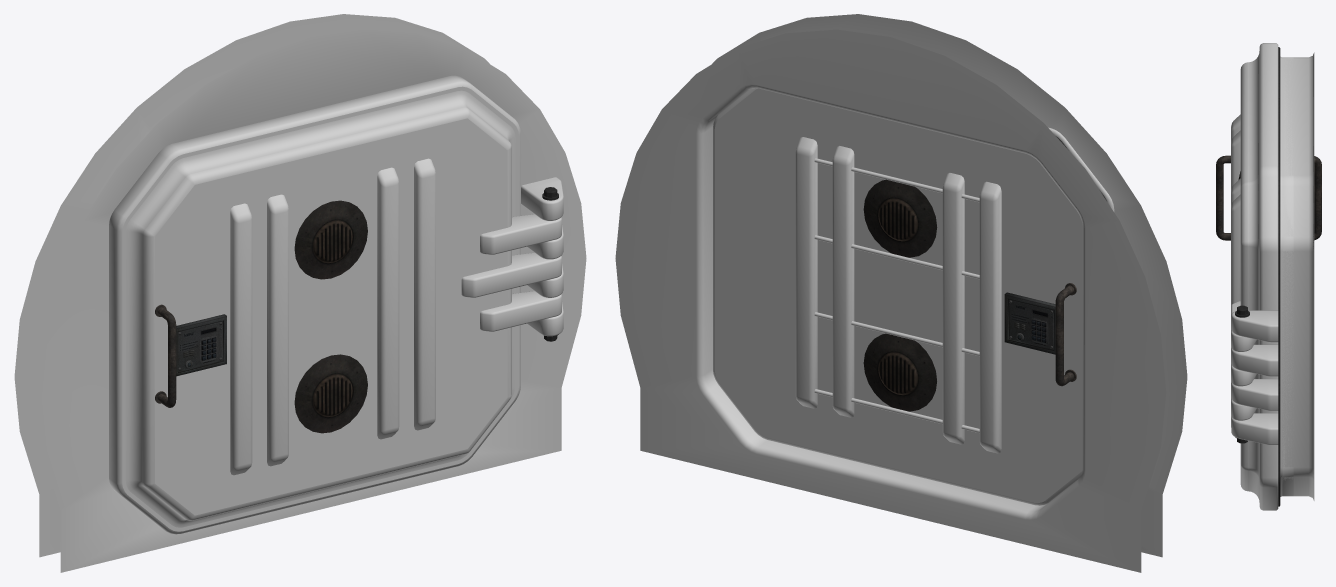
File: blast_door_1_frame.obj
The picture shows the model from 3 angles, left to right: view 1: azimuth 30°, elevation 25°; view 2: azimuth 150°, elevation 25°; view 3: azimuth 270°, elevation 25°; orthographic projection. The views are drawn at different scales.
Parts seen in each view (by area): view 1: blast_door_1, blast_door_1_frame; view 2: blast_door_1, blast_door_1_frame; view 3: blast_door_1, blast_door_1_frame.
Boxes of the visible parts, <box> form: blast_door_1: <box>109,75,561,534</box>; blast_door_1_frame: <box>14,14,586,572</box>; blast_door_1: <box>713,88,1114,505</box>; blast_door_1_frame: <box>615,14,1187,572</box>; blast_door_1: <box>1216,43,1321,510</box>; blast_door_1_frame: <box>1231,52,1314,500</box>.
Bounding box in the file's own units: 3 × 2.47 × 0.5596.
